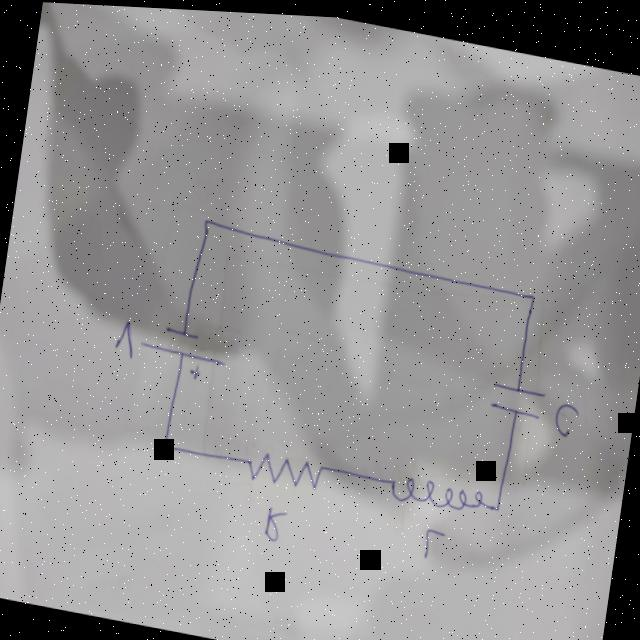capacitor: (485, 371, 546, 418)
inductor: (387, 467, 488, 514)
junction: (198, 210, 215, 235), (524, 283, 540, 301), (158, 437, 170, 451), (489, 495, 501, 509)
resistor: (242, 442, 324, 494)
source: (133, 316, 230, 384)
text: (259, 499, 289, 546), (549, 392, 580, 434), (419, 519, 447, 561), (112, 319, 137, 358)
